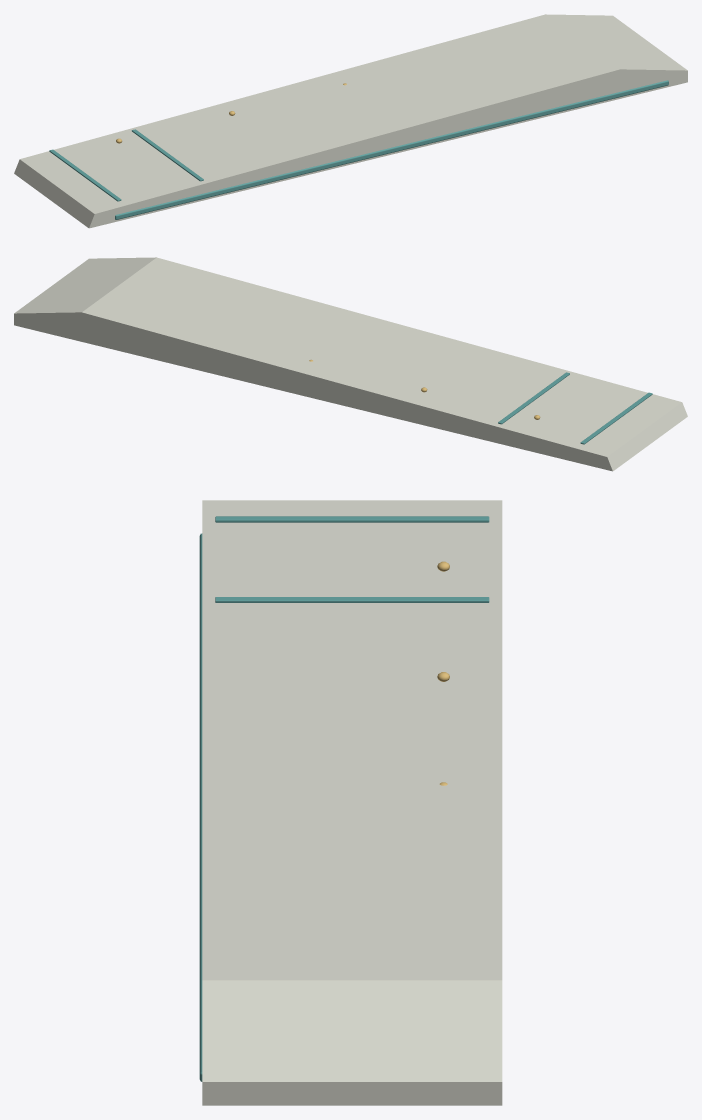
Rendered from castaway-island-escape-detached-aircraft-wing-e15bc3c6__28049.glb.
The picture shows the model from 3 angles, top to bottom: view 1: azimuth 30°, elevation 25°; view 2: azimuth 150°, elevation 25°; view 3: azimuth 270°, elevation 25°; orthographic projection. The views are drawn at different scales.
Visible parts, largest first — view 1: detached-aircraft-wing-ivory, detached-aircraft-wing-teal; view 2: detached-aircraft-wing-ivory, detached-aircraft-wing-teal; view 3: detached-aircraft-wing-ivory, detached-aircraft-wing-teal.
Boxes of the visible parts, box(x1,y1,x2,y2) form: detached-aircraft-wing-ivory: box(14, 14, 687, 228); detached-aircraft-wing-teal: box(49, 80, 668, 219); detached-aircraft-wing-ivory: box(14, 257, 687, 471); detached-aircraft-wing-teal: box(498, 372, 652, 444); detached-aircraft-wing-ivory: box(202, 500, 502, 1105); detached-aircraft-wing-teal: box(199, 516, 489, 1081).
Size of the model in its own units: 5.3 by 0.2497 by 1.16.
